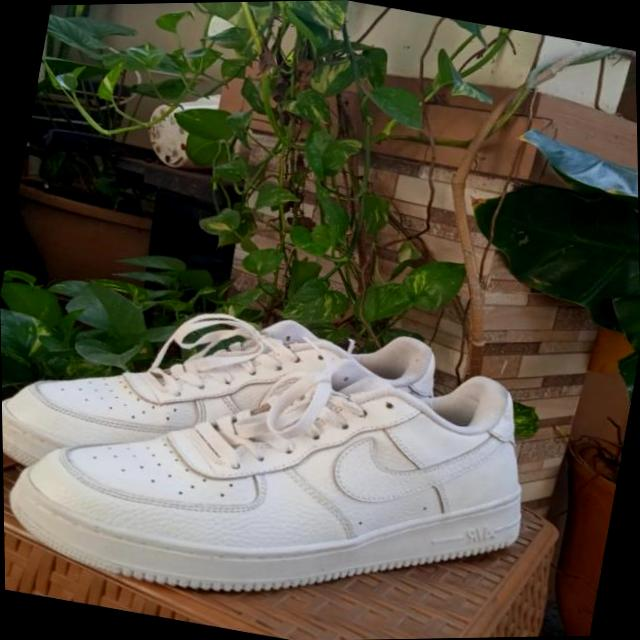nike_fake_airforce: (0, 286, 551, 640), (0, 259, 443, 544)
